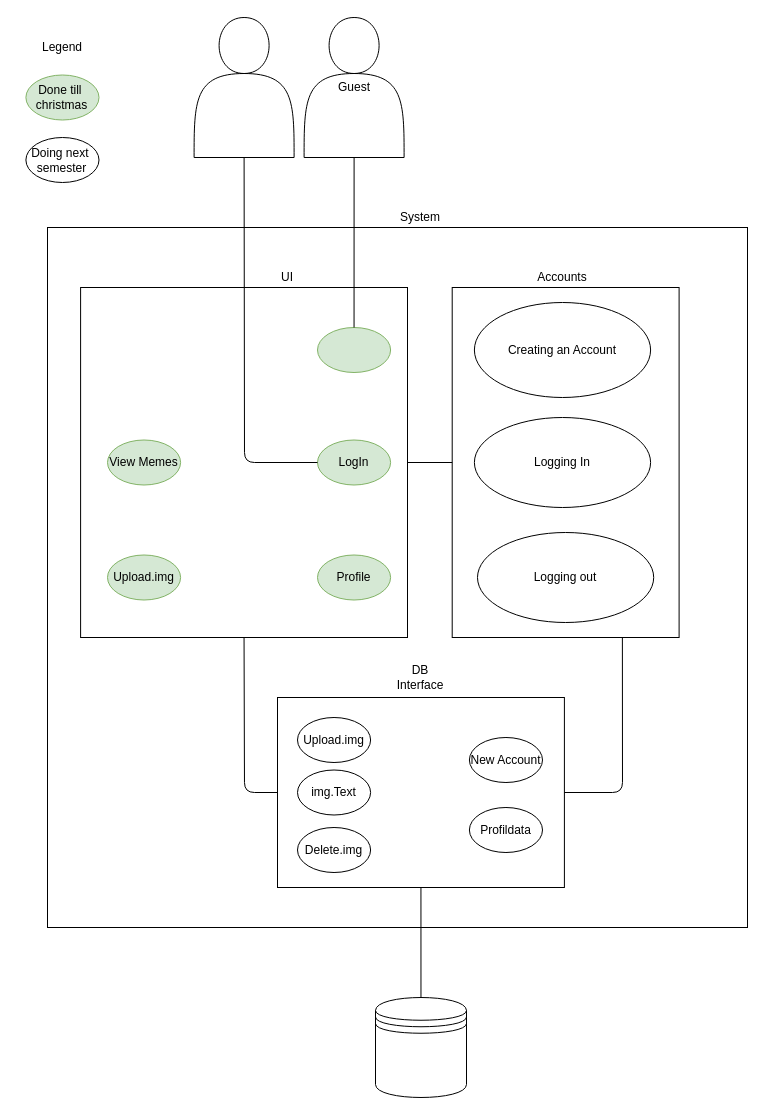
This 765x1115 diagram has some shape labels left out. Each missing label, with the centre of its shape:
"DB" goes at point (420, 1047).
"Register" goes at point (353, 349).
"USER" goes at point (243, 87).
